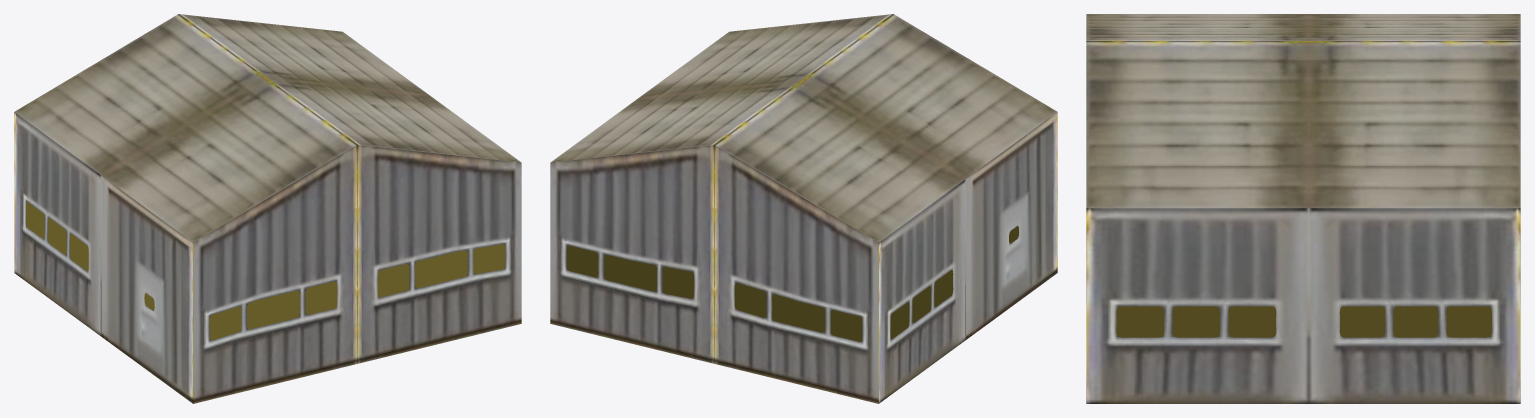
The model's file is shack_hdtex.glb.
The picture shows the model from 3 angles, left to right: view 1: azimuth 30°, elevation 25°; view 2: azimuth 150°, elevation 25°; view 3: azimuth 270°, elevation 25°; orthographic projection. The views are drawn at different scales.
Visible parts, largest first — view 1: Shack, LitWin_Shack; view 2: Shack, LitWin_Shack; view 3: Shack, LitWin_Shack.
Boxes of the visible parts, left/top/right/bottom form: Shack: left=14, top=14, right=521, bottom=403; LitWin_Shack: left=26, top=202, right=505, bottom=340; Shack: left=550, top=14, right=1057, bottom=403; LitWin_Shack: left=566, top=226, right=1018, bottom=341; Shack: left=1086, top=14, right=1520, bottom=403; LitWin_Shack: left=1116, top=306, right=1491, bottom=337.
Size of the model in its own units: 6.06 by 3.86 by 5.72.
Materials: 1 (1 with a texture image).
